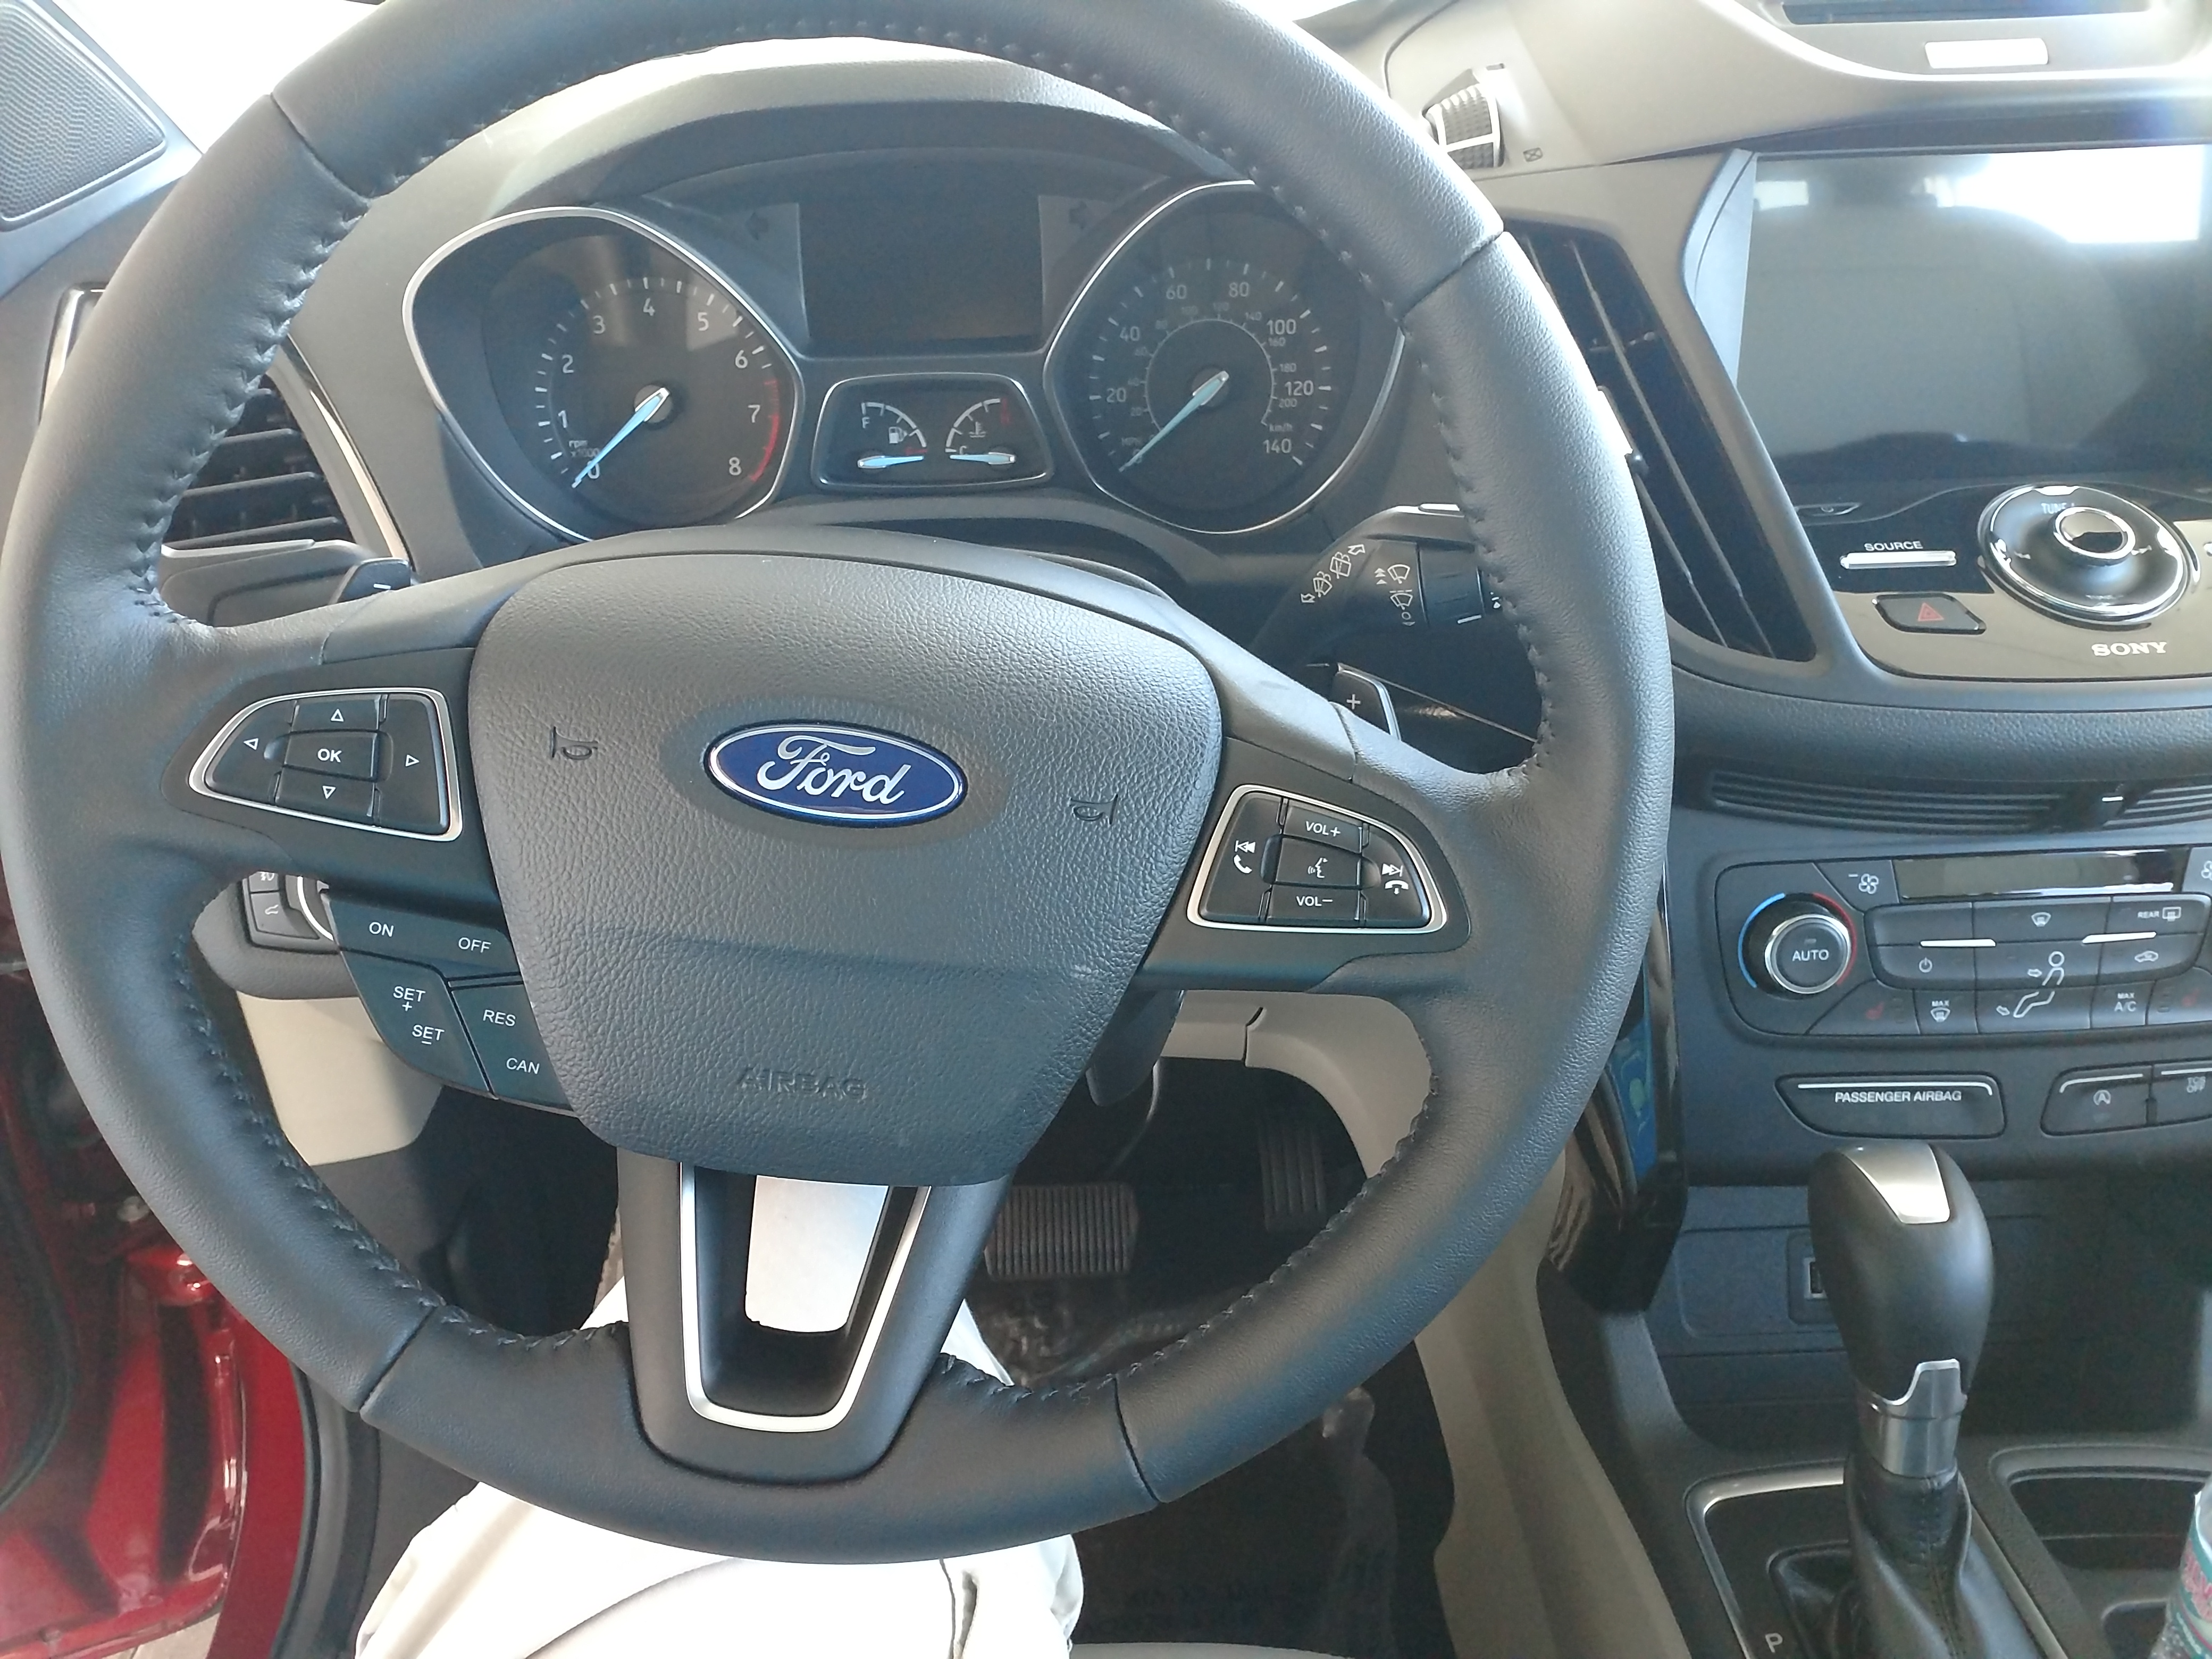Ford: (690, 699, 989, 847)
